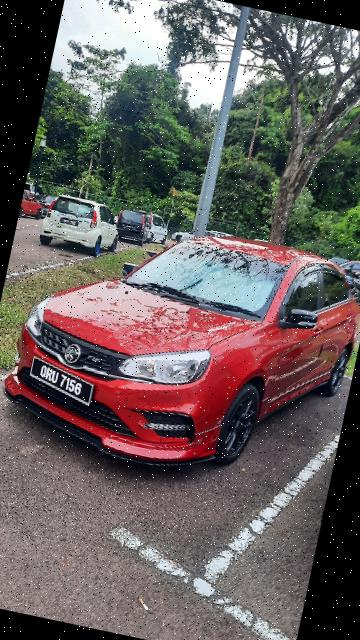License_Plate: (23, 359, 101, 413)
car: (1, 181, 360, 515)
